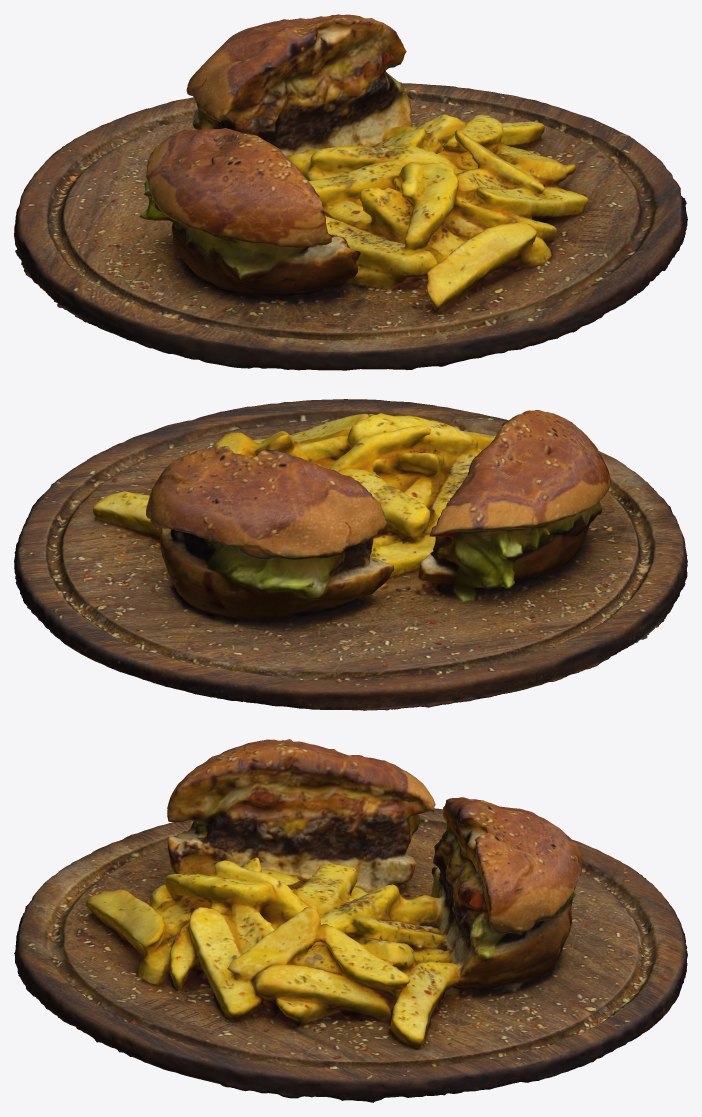
Rendered from Baltazar2-70.glb.
3 renders of one model, top to bottom at view 1: azimuth 30°, elevation 25°; view 2: azimuth 150°, elevation 25°; view 3: azimuth 270°, elevation 25°, orthographic.
Visible parts, largest first — view 1: Mesh_0_Part_0.004; view 2: Mesh_0_Part_0.004; view 3: Mesh_0_Part_0.004.
Boxes of the visible parts, box(x1,y1,x2,y2) form: Mesh_0_Part_0.004: box(14, 14, 687, 370); Mesh_0_Part_0.004: box(14, 399, 687, 710); Mesh_0_Part_0.004: box(14, 739, 687, 1102).
Size of the model in its own units: 0.3 by 0.0771 by 0.2977.
1 material, 1 textured.
